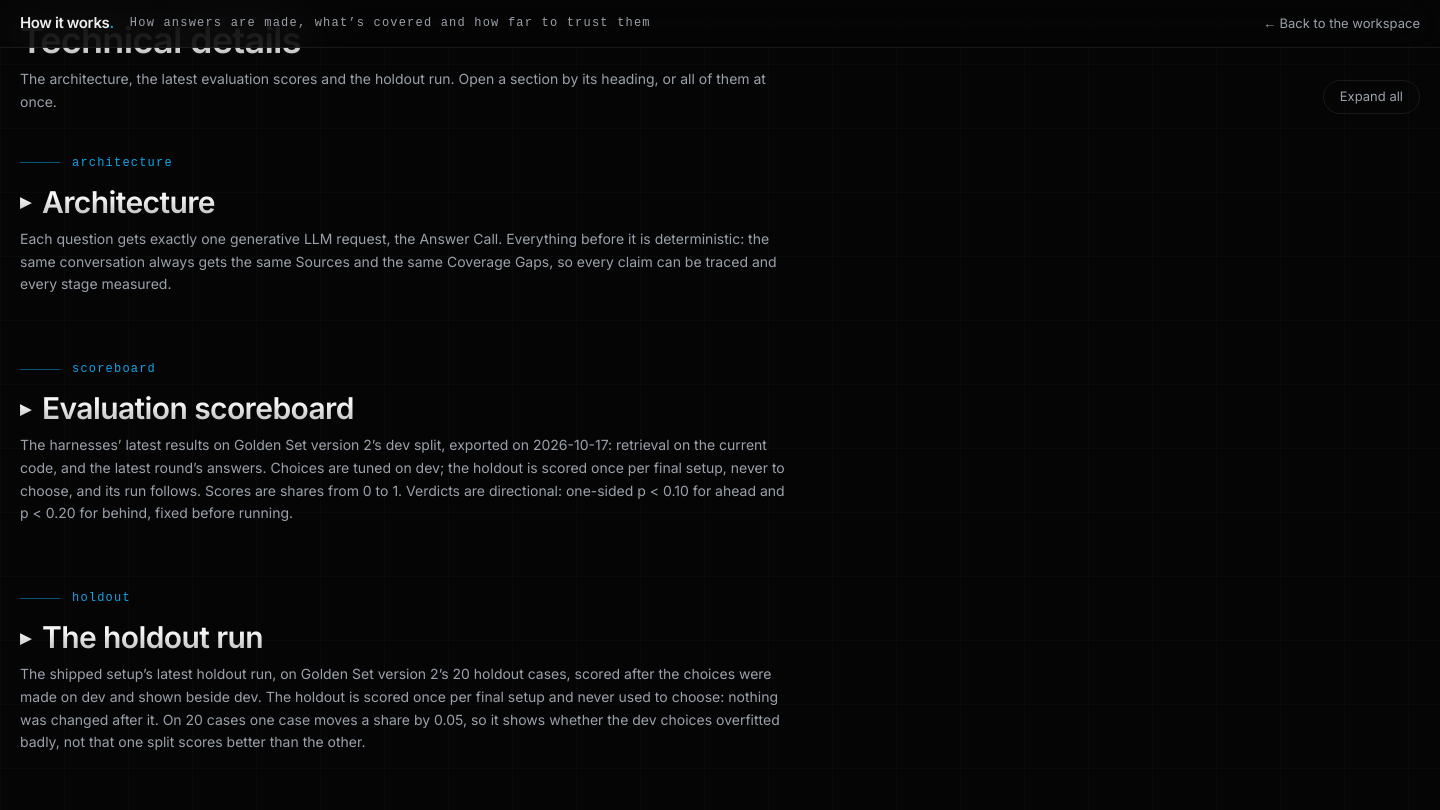
Test: the "How it works" technical details › opens a section on clicking its heading, and closes it on clicking again
This screenshot has width=1440, height=810.
(page scrolled)
Click the button "▸ The holdout run" at x=142, y=637, box [20,619,263,655]
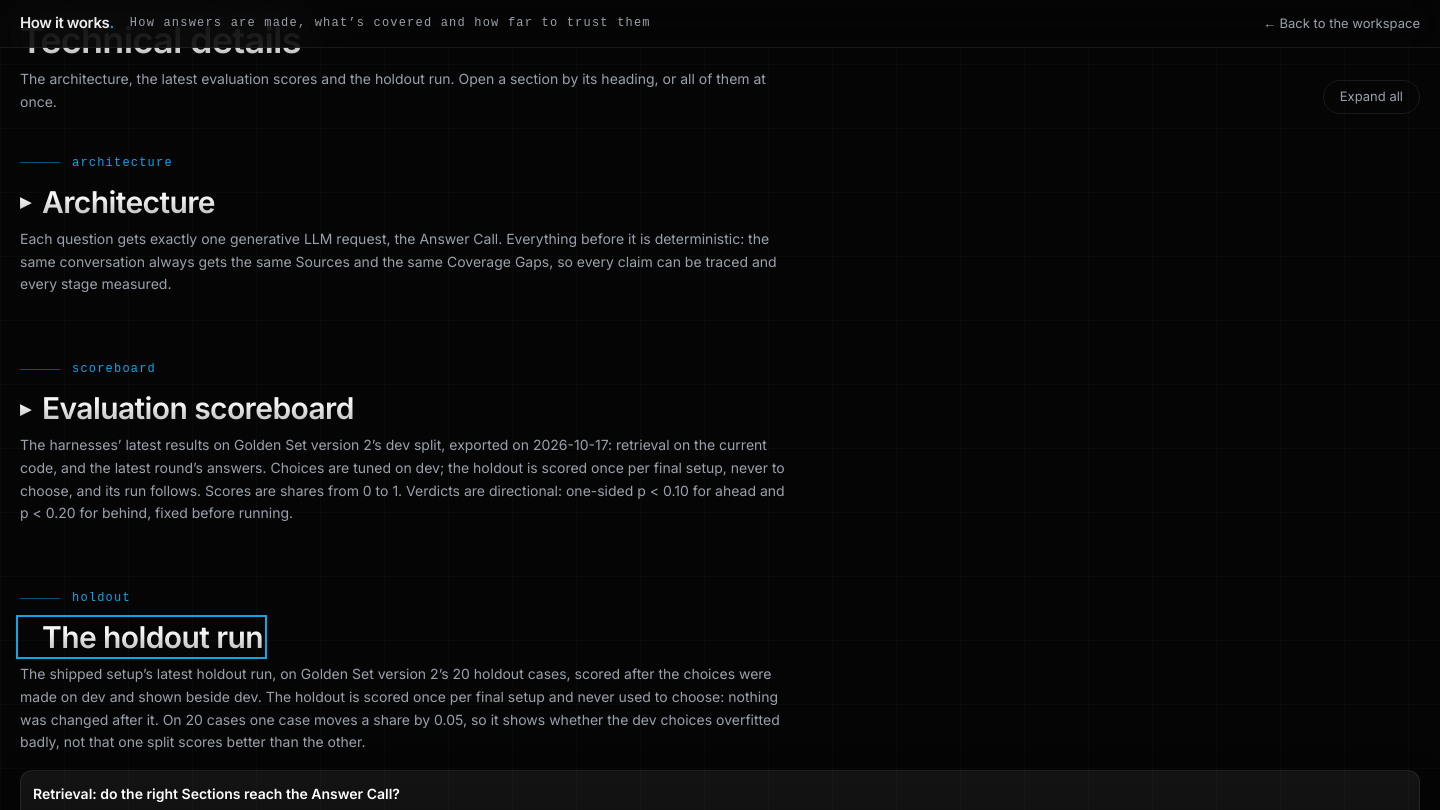
Now the button "▸ The holdout run" is expanded
Click the button "▸ The holdout run" at x=142, y=637, box [20,619,263,655]
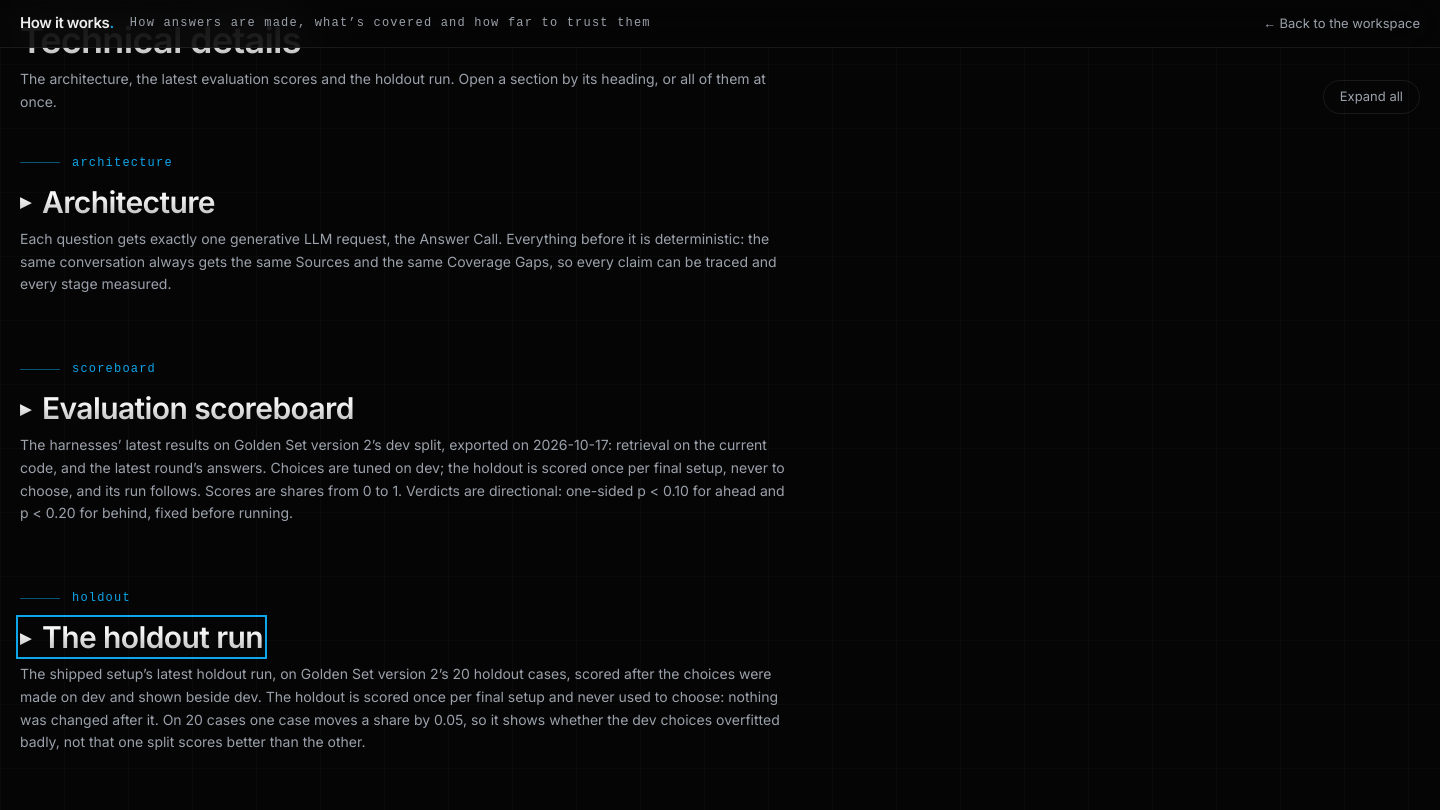
Now the button "▸ The holdout run" is collapsed, box [20,619,263,655]
